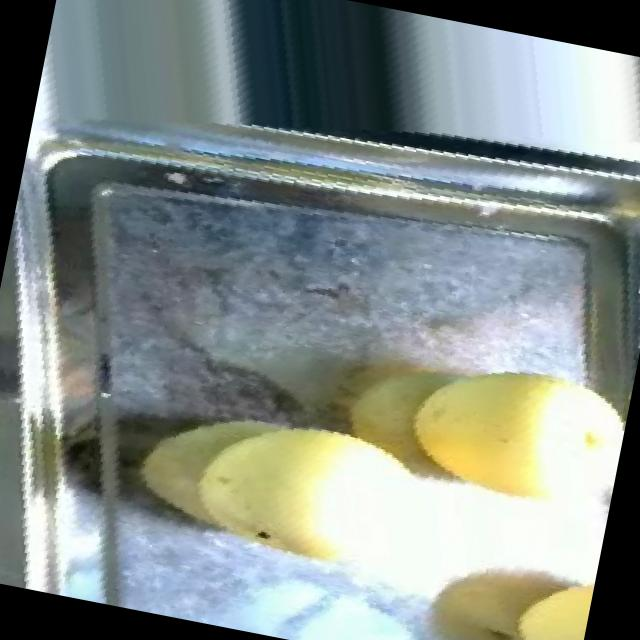Fruit: (150, 366, 414, 602), (380, 324, 635, 546), (392, 517, 600, 640)
